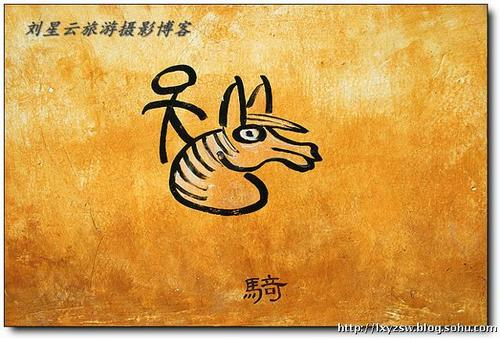chinese: (22, 14, 195, 43), (239, 270, 289, 309)
naxi: (146, 60, 325, 219)
